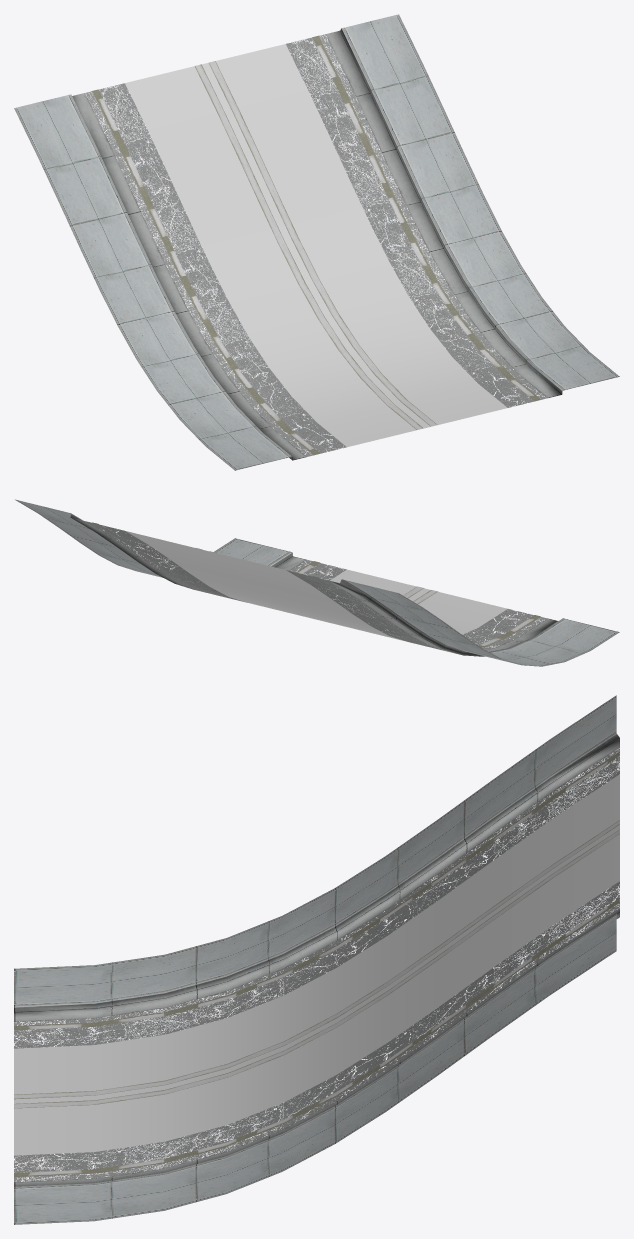
The model's file is Road_SlopeOut.obj.
The picture shows the model from 3 angles, top to bottom: view 1: azimuth 30°, elevation 25°; view 2: azimuth 150°, elevation 25°; view 3: azimuth 270°, elevation 25°; orthographic projection. The views are drawn at different scales.
Parts seen in each view (by area): view 1: Road-Angled.002; view 2: Road-Angled.002; view 3: Road-Angled.002.
Boxes of the visible parts, <box> form: Road-Angled.002: <box>14,14,619,470</box>; Road-Angled.002: <box>15,499,619,666</box>; Road-Angled.002: <box>14,695,619,1224</box>.
Bounding box in the file's own units: 20 × 10.16 × 20.
